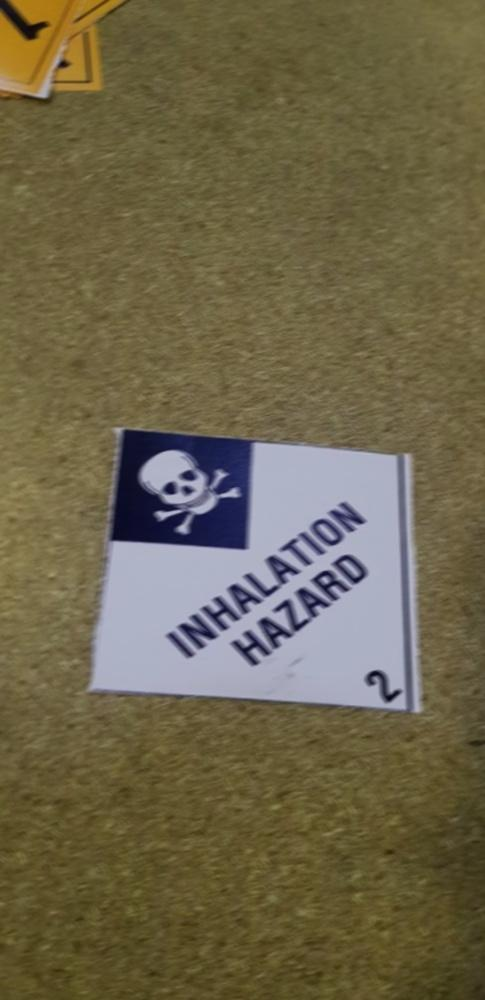poison: (94, 427, 431, 719)
